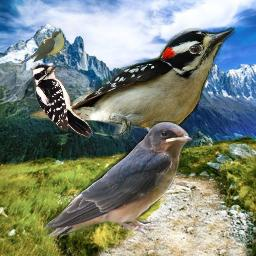Cuckoo: (16, 31, 64, 65)
Swallow: (43, 121, 193, 242)
Woodpecker: (30, 23, 235, 140), (32, 64, 93, 139)
